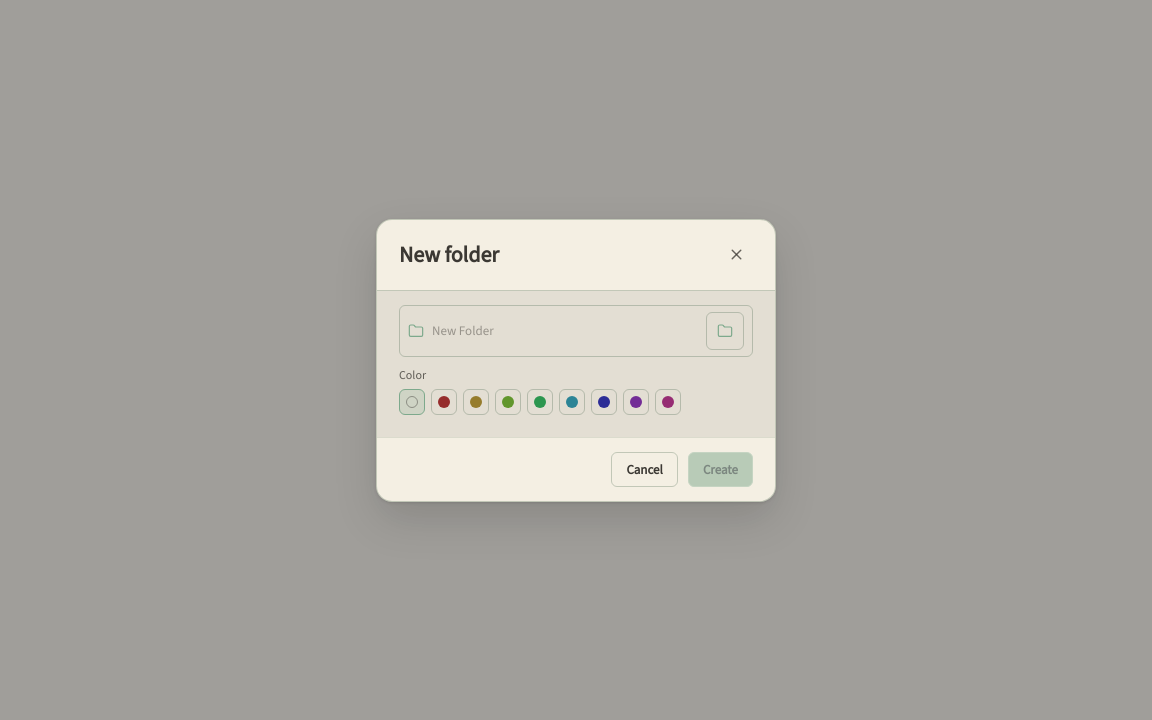
Test case: NewFolderDialog › toggles the icon picker popover on click
Step 1. Click the button with test id "new-folder-icon-toggle" → coordinates (725, 330), box [706, 312, 744, 350]
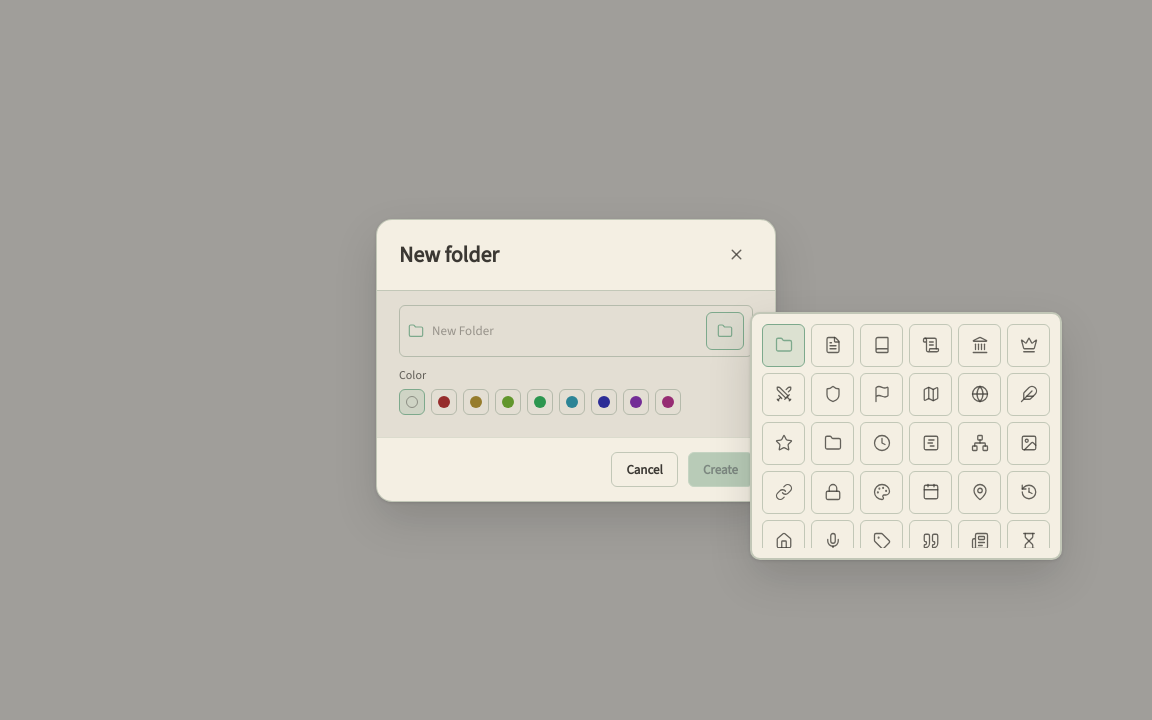
expect the button named "map" is shown: met, box [909, 372, 952, 416]
Step 2. Click the button with test id "new-folder-icon-toggle" → coordinates (725, 330), box [706, 312, 744, 350]
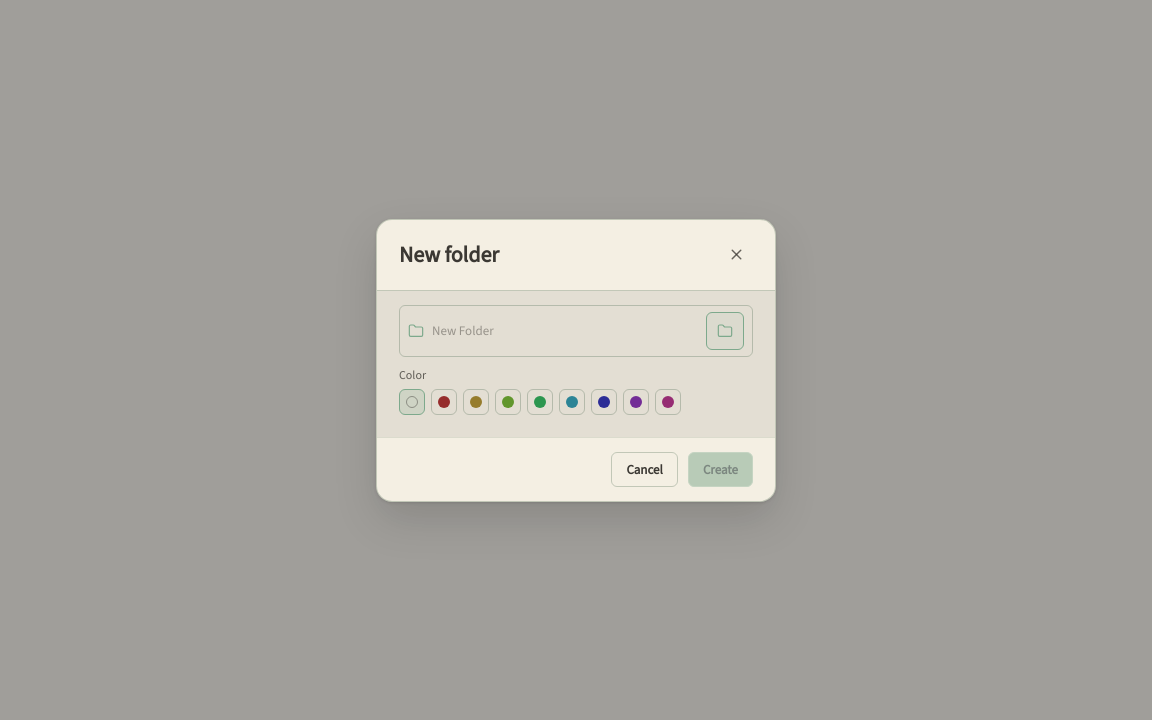
expect the button "map" is gone: met
